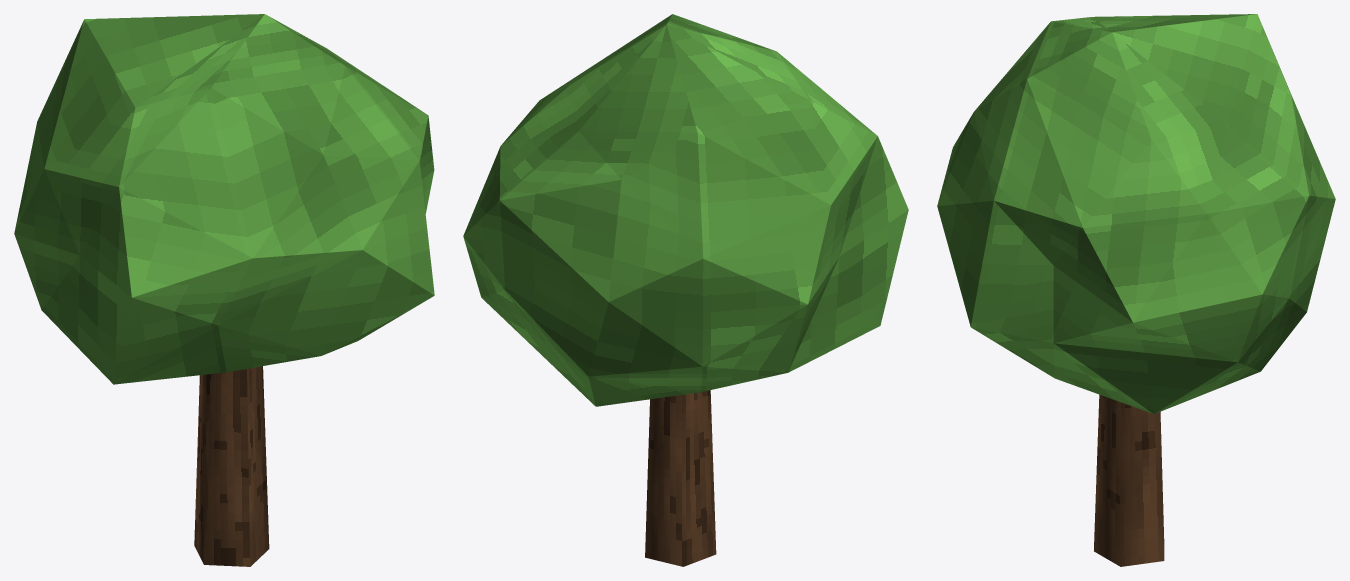
The model's file is arbol-hojas.glb.
The picture shows the model from 3 angles, left to right: view 1: azimuth 30°, elevation 25°; view 2: azimuth 150°, elevation 25°; view 3: azimuth 270°, elevation 25°; orthographic projection. The views are drawn at different scales.
Visible parts, largest first — view 1: arbol-hojas; view 2: arbol-hojas; view 3: arbol-hojas.
Part boxes in pixels (box(x1,y1,x2,y2)): arbol-hojas: box(14, 14, 434, 566); arbol-hojas: box(463, 14, 908, 566); arbol-hojas: box(937, 14, 1335, 566).
Size of the model in its own units: 3.1 by 4.21 by 2.87.
2 materials, 2 textured.
